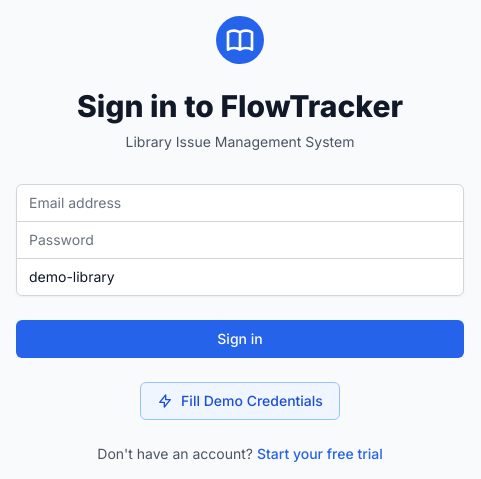
Test: LoginForm › autofills demo credentials when demo button is clicked
Check: the field labelled "Email address" is empty, box [16,184,464,222]
Check: the password field labelled "Password" is empty, box [16,221,464,259]
Click the button "Fill Demo Credentials" at (240, 401), box [140,382,340,420]
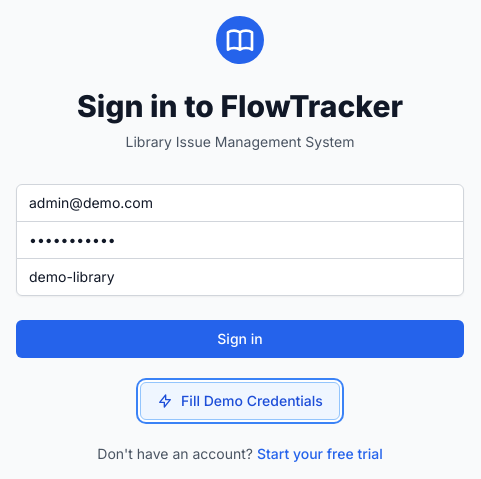
Check: the 2nd field named "Library Slug" holds "demo-library", box [16,258,464,296]
Check: the 1st field named "Email" holds "admin@demo.com", box [16,184,464,222]
Check: the password field named "Password" holds "password123", box [16,221,464,259]
